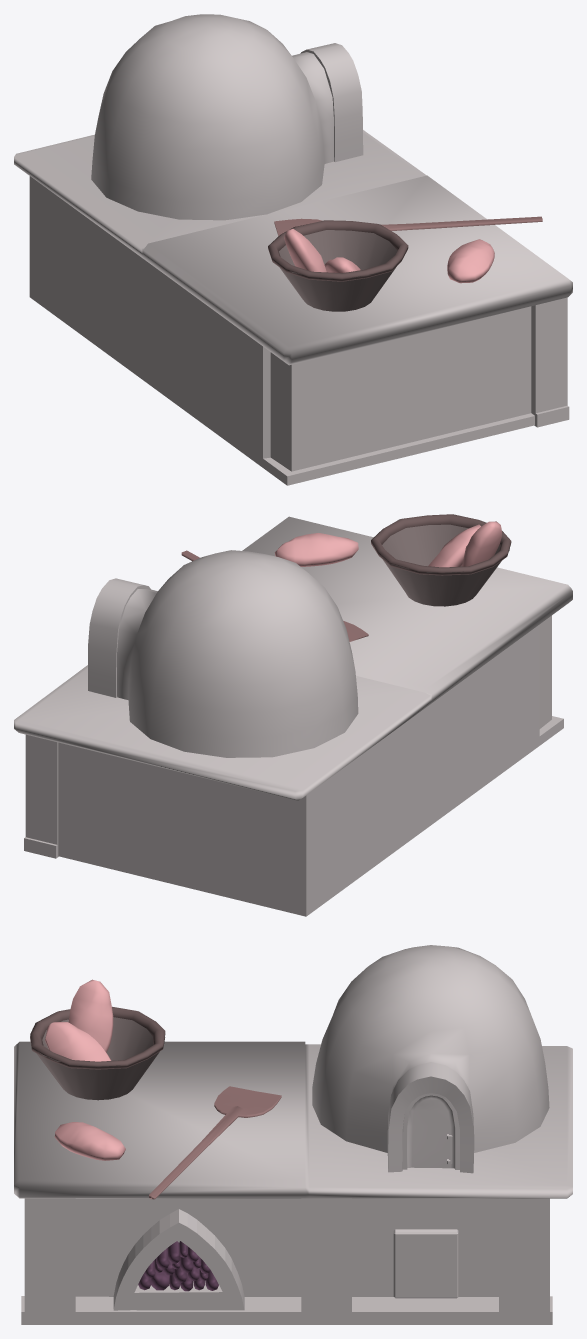
The model's file is PieOven.glb.
3 renders of one model, top to bottom at view 1: azimuth 30°, elevation 25°; view 2: azimuth 150°, elevation 25°; view 3: azimuth 270°, elevation 25°, orthographic.
Visible parts, largest first — view 1: pasted__pCube4, pasted__pCube3, pasted__pasted__pSphere1, pasted__pCube8, basket_hpring, basket_hpbase_2, basket_hpbase_1, polySurface3, pal_lppolySurface1, polySurface1; view 2: pasted__pCube4, pasted__pasted__pSphere1, pasted__pCube3, pasted__pCube8, basket_hpbase_2, basket_hpring, basket_hpbase_1, polySurface3, polySurface1, polySurface2; view 3: pasted__pCube3, pasted__pasted__pSphere1, pasted__pCube8, pasted__pCube4, stove_base_lp1stove_logs, pasted__pCube2, basket_hpbase_2, basket_hpring, pal_lppolySurface1, polySurface1, polySurface3, polySurface2 (+1 smaller).
Part boxes in pixels (box(x1,y1,x2,y2)): pasted__pCube4: box(29, 176, 534, 485); pasted__pCube3: box(14, 130, 572, 365); pasted__pasted__pSphere1: box(91, 14, 363, 220); pasted__pCube8: box(531, 297, 569, 427); basket_hpring: box(268, 220, 408, 281); basket_hpbase_2: box(279, 252, 405, 311); basket_hpbase_1: box(279, 230, 397, 270); polySurface3: box(447, 239, 494, 283); pal_lppolySurface1: box(274, 216, 542, 236); polySurface1: box(284, 229, 326, 272); pasted__pCube4: box(58, 615, 563, 916); pasted__pasted__pSphere1: box(88, 550, 358, 757); pasted__pCube3: box(14, 516, 572, 800); pasted__pCube8: box(24, 734, 58, 858); basket_hpbase_2: box(374, 545, 510, 606); basket_hpring: box(371, 514, 511, 575); basket_hpbase_1: box(382, 524, 500, 566); polySurface3: box(274, 533, 358, 566); polySurface1: box(462, 521, 501, 566); polySurface2: box(428, 524, 480, 567); pasted__pCube3: box(14, 1041, 572, 1198); pasted__pasted__pSphere1: box(312, 945, 549, 1173); pasted__pCube8: box(21, 1198, 552, 1324); pasted__pCube4: box(75, 1198, 498, 1296); stove_base_lp1stove_logs: box(113, 1209, 244, 1310); pasted__pCube2: box(393, 1229, 458, 1298); basket_hpbase_2: box(30, 1036, 165, 1100); basket_hpring: box(30, 1006, 165, 1069); pal_lppolySurface1: box(149, 1086, 281, 1199); polySurface1: box(68, 979, 113, 1052); polySurface3: box(54, 1122, 125, 1160); polySurface2: box(45, 1022, 111, 1061).
Size of the model in its own units: 13.73 by 11.5 by 20.2.
